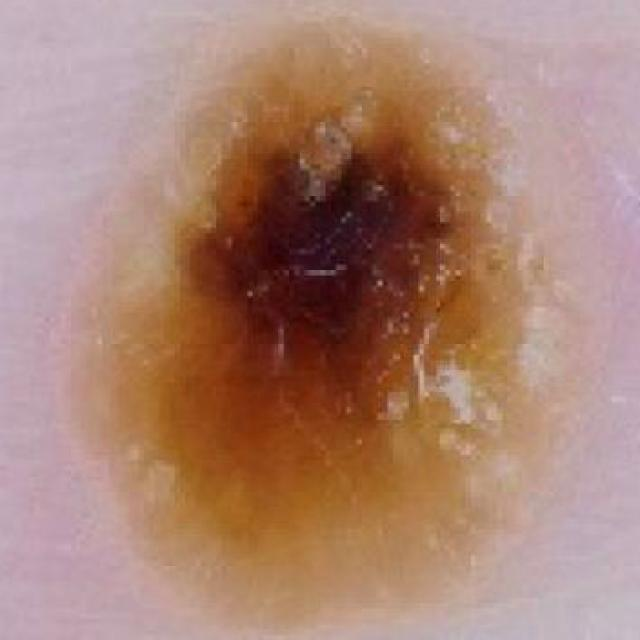BKL: (45, 0, 640, 640)
